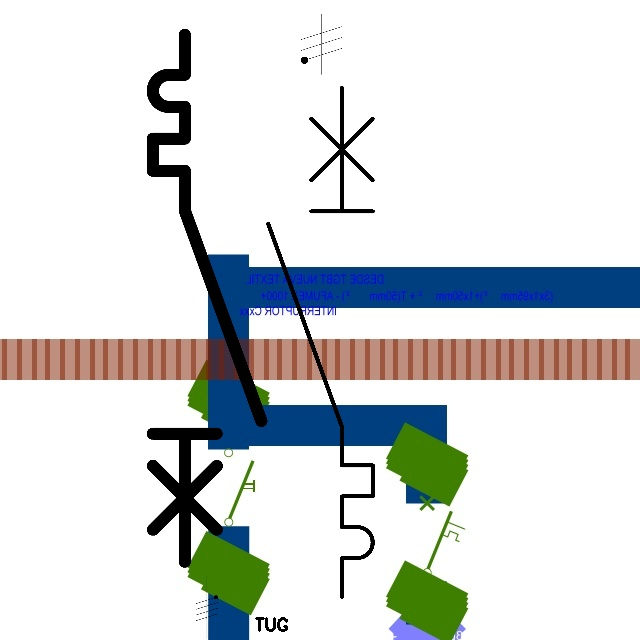interruptor_termomagnetico: (139, 21, 275, 575), (255, 74, 386, 610)
